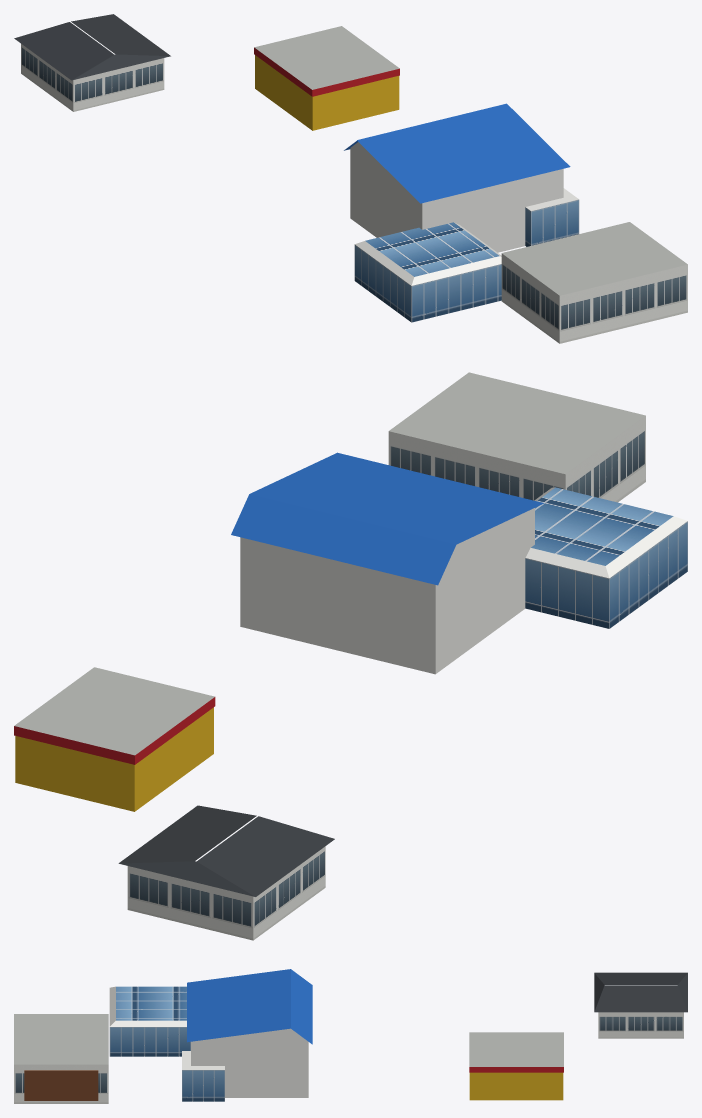
The model's file is xiyuan_wenchuang.glb.
3 views of the same model, one above another, from view 1: azimuth 30°, elevation 25°; view 2: azimuth 150°, elevation 25°; view 3: azimuth 270°, elevation 25° (orthographic). The views are drawn at different scales.
Parts seen in each view (by area): view 1: 西苑文创街区; view 2: 西苑文创街区; view 3: 西苑文创街区.
Boxes of the visible parts, box(x1,y1,x2,y2) form: 西苑文创街区: box(14, 14, 687, 343); 西苑文创街区: box(14, 372, 687, 940); 西苑文创街区: box(14, 969, 687, 1103).
Bounding box in the file's own units: 23.85 × 7.6 × 65.45.
Materials: 9 (2 with a texture image).
